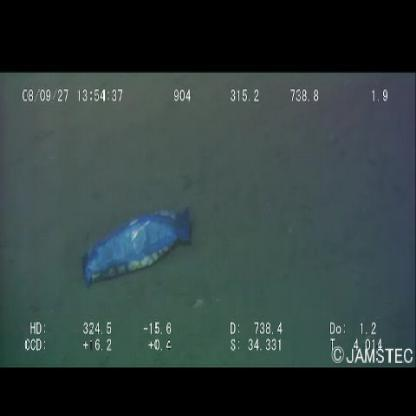Rác: (77, 197, 200, 293)
